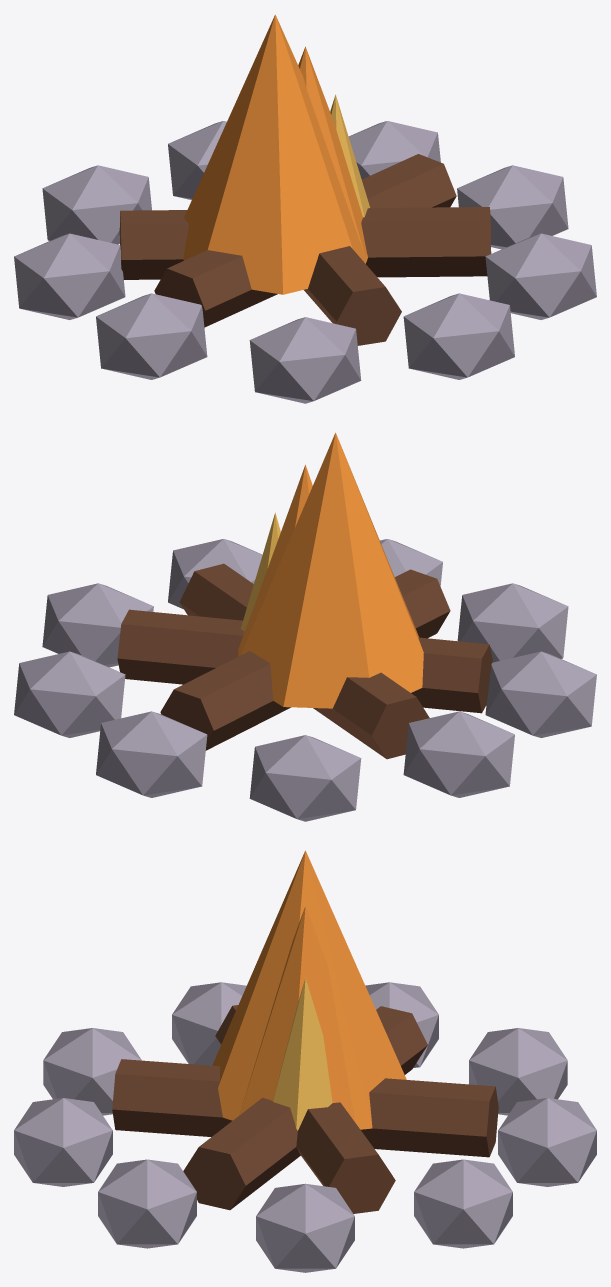
Rendered from campfire.glb.
3 renders of one model, top to bottom at view 1: azimuth 30°, elevation 25°; view 2: azimuth 150°, elevation 25°; view 3: azimuth 270°, elevation 25°, orthographic. The views are drawn at different scales.
Visible parts, largest first — view 1: campfire_base, Flame0, Flame1, Flame2; view 2: campfire_base, Flame0, Flame1, Flame2; view 3: campfire_base, Flame0, Flame1, Flame2.
Boxes of the visible parts, left/top/right/bottom form: campfire_base: left=14, top=121, right=596, bottom=403; Flame0: left=183, top=14, right=367, bottom=294; Flame1: left=298, top=46, right=366, bottom=256; Flame2: left=330, top=94, right=370, bottom=217; campfire_base: left=14, top=539, right=596, bottom=821; Flame0: left=241, top=432, right=423, bottom=708; Flame1: left=238, top=464, right=312, bottom=656; Flame2: left=240, top=512, right=280, bottom=631; campfire_base: left=14, top=982, right=596, bottom=1272; Flame0: left=212, top=850, right=406, bottom=1129; Flame1: left=239, top=906, right=354, bottom=1121; Flame2: left=273, top=978, right=332, bottom=1130.
Size of the model in its own units: 1.34 by 0.75 by 1.3.
